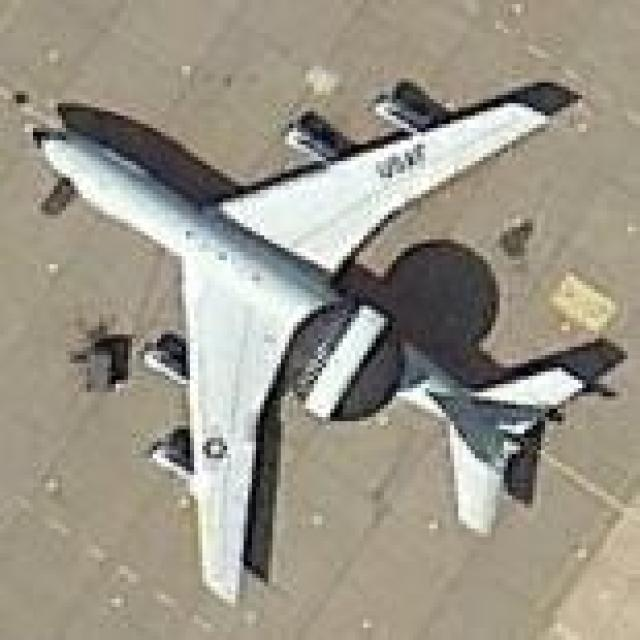E-3_TopDown: (25, 70, 628, 603)
